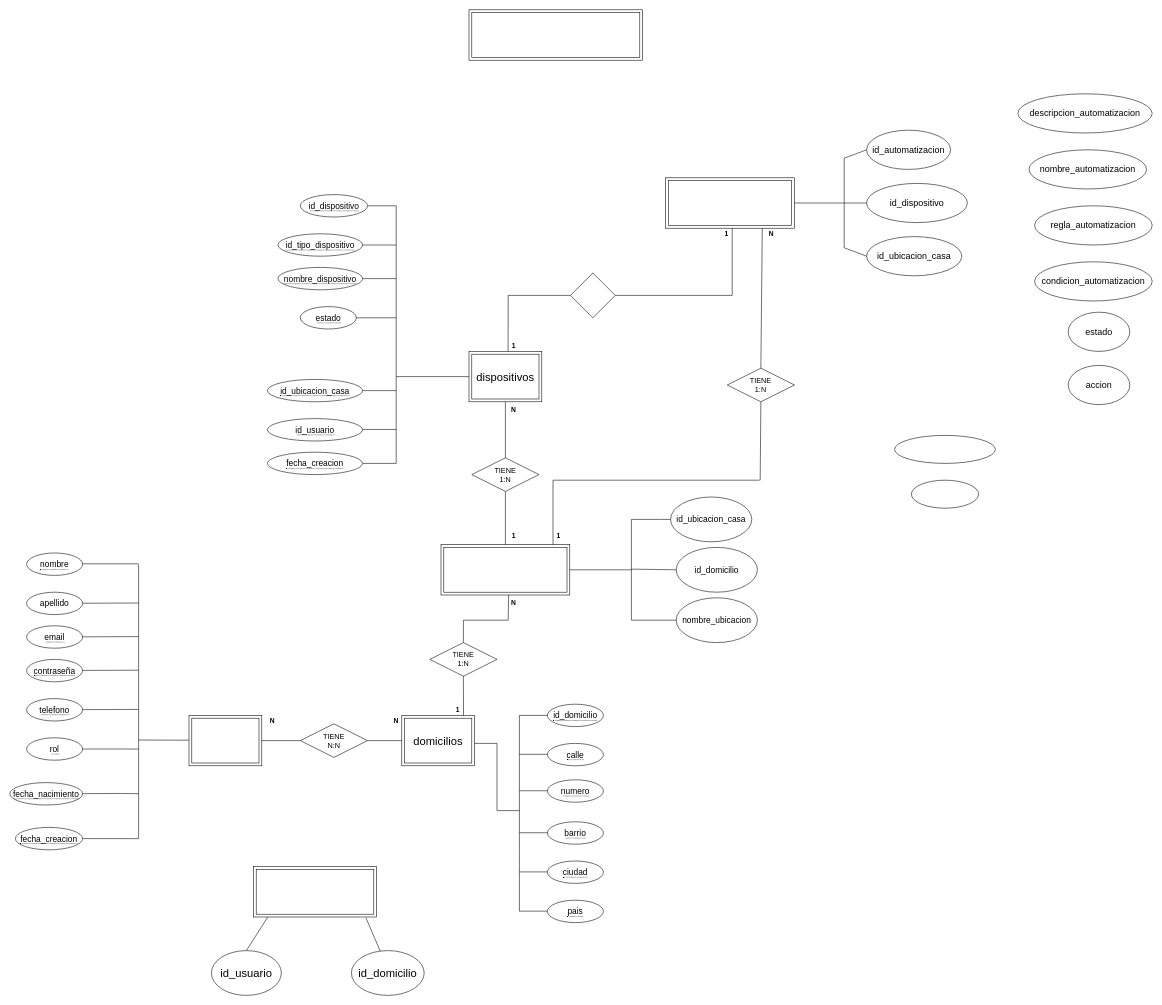
This 1162x1005 diagram has some shape labels left out. Here are the shapes that lost their labels. From the top down, the box of each, then its label:
(468, 9, 643, 60): automatizaciones_dispositivos
(665, 177, 794, 228): automatizaciones
(570, 272, 615, 318): TIENE 1:1
(894, 435, 995, 463): permite_configuracion
(911, 480, 979, 508): descripcion
(440, 544, 570, 595): ubicaciones_casa
(188, 715, 262, 766): usuarios
(253, 866, 377, 917): usuarios_domicilios
